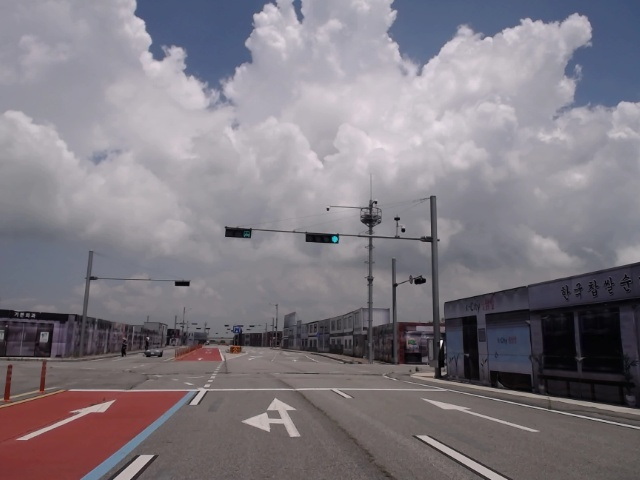straight_green_4: (306, 235, 341, 244)
